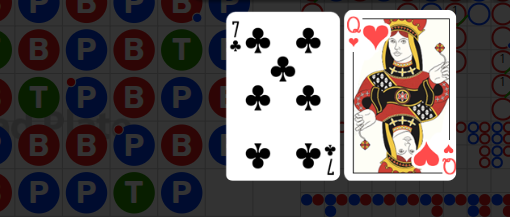7C: (322, 142, 337, 176)
